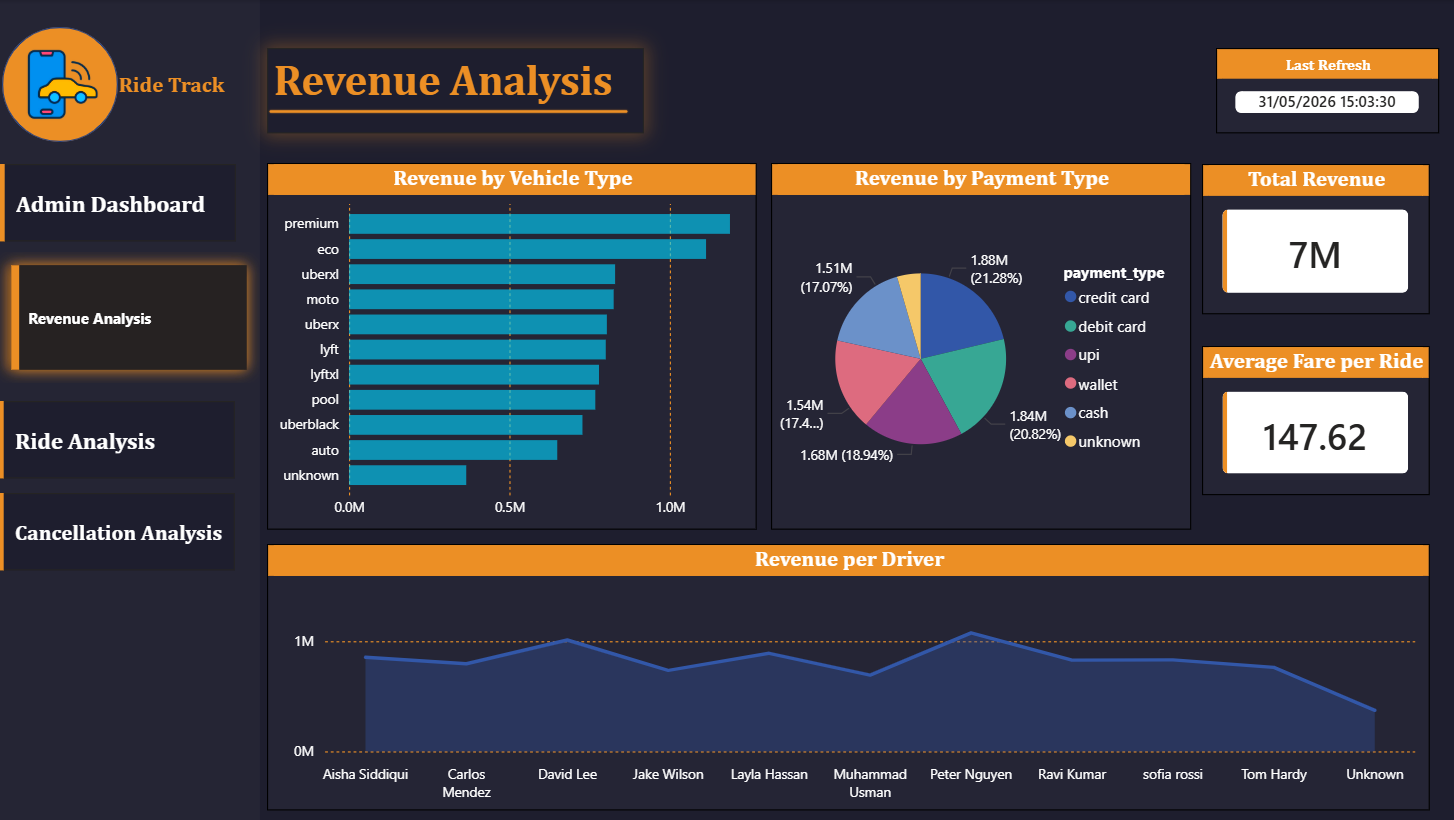

The page's visual inventory and layout, read from the dashboard file:
{"tool":"powerbi","page":{"name":"Revenue Analysis","canvas":[1280,720],"ordinal":1},"visuals":[{"type":"shape","box":[0,0,230,720],"z":0,"group":"g1"},{"type":"textbox","box":[236.2,42.1,331,74.6],"z":0,"group":"g2"},{"type":"stackedAreaChart","title":"Revenue per Driver","fields":{"Category":["gold_ridesharing.driver_name"],"Y":["Sum(gold_ridesharing.total_fare)"]},"box":[235.9,477.9,1021.2,234.1],"z":0},{"type":"shape","box":[237.1,91.3,317,13.2],"z":1000,"group":"g2"},{"type":"clusteredBarChart","title":"Revenue by Vehicle Type","fields":{"Category":["gold_ridesharing.vehicle_type"],"Y":["Sum(gold_ridesharing.total_fare)"]},"box":[235.9,142.8,430,321.9],"z":1000},{"type":"textbox","box":[101,57.9,115,33.4],"z":2000,"group":"g4"},{"type":"pieChart","title":"Revenue by Payment Type","fields":{"Category":["gold_ridesharing.payment_type"],"Y":["Sum(gold_ridesharing.total_fare)"]},"box":[678.3,142.8,368.9,321.9],"z":2000},{"type":"group","id":"g1","title":"Group 1","box":[0,0,230,720],"z":3000},{"type":"cardVisual","title":"Total Revenue","fields":{"Data":["Sum(gold_ridesharing.trip_duration_mins)"]},"box":[1057.4,144,199.6,131.6],"z":4000},{"type":"cardVisual","title":"Average Fare per Ride","fields":{"Data":["Avg(gold_ridesharing.total_fare)"]},"box":[1057.4,303.9,199.6,130.7],"z":5000},{"type":"group","id":"g2","title":"Group 3","box":[236.2,42.1,331,74.6],"z":6000},{"type":"group","id":"g3","title":"Group 2","box":[0,143.9,230,357],"z":6001,"group":"g1"},{"type":"group","id":"g4","title":"Group 2","box":[3.5,23.7,212.5,101],"z":7000},{"type":"cardVisual","title":"Last Refresh","fields":{"Data":["gold_ridesharing.Last Refresh"]},"box":[1069.5,42.1,195.8,74.6],"z":8000},{"type":"shape","box":[3.5,23.7,101.9,101],"z":9000,"group":"g4"},{"type":"pageNavigator","box":[0,221.4,230,115],"z":10000,"group":"g3"},{"type":"image","box":[22.8,42.1,67.6,64.1],"z":11000,"group":"g4"},{"type":"pageNavigator","box":[0,432.9,208,68],"z":11000,"group":"g3"},{"type":"pageNavigator","box":[0,352.3,208,68],"z":12000,"group":"g3"},{"type":"pageNavigator","box":[0.8,143.9,208,68],"z":12500,"group":"g3"}]}

Visuals, with their boxes on the page's 1280x720 design canvas (x1, y1, x2, y2). These are canvas units, not pixel positions in the 1454x820 screenshot, which may show the page scaled, cropped or inside an application window:
shape: Rect(0, 0, 230, 720)
textbox: Rect(236, 42, 567, 117)
"Revenue per Driver" stackedAreaChart: Rect(236, 478, 1257, 712)
shape: Rect(237, 91, 554, 104)
"Revenue by Vehicle Type" clusteredBarChart: Rect(236, 143, 666, 465)
textbox: Rect(101, 58, 216, 91)
"Revenue by Payment Type" pieChart: Rect(678, 143, 1047, 465)
"Group 1" group: Rect(0, 0, 230, 720)
"Total Revenue" cardVisual: Rect(1057, 144, 1257, 276)
"Average Fare per Ride" cardVisual: Rect(1057, 304, 1257, 435)
"Group 3" group: Rect(236, 42, 567, 117)
"Group 2" group: Rect(0, 144, 230, 501)
"Group 2" group: Rect(4, 24, 216, 125)
"Last Refresh" cardVisual: Rect(1070, 42, 1265, 117)
shape: Rect(4, 24, 105, 125)
pageNavigator: Rect(0, 221, 230, 336)
image: Rect(23, 42, 90, 106)
pageNavigator: Rect(0, 433, 208, 501)
pageNavigator: Rect(0, 352, 208, 420)
pageNavigator: Rect(1, 144, 209, 212)
